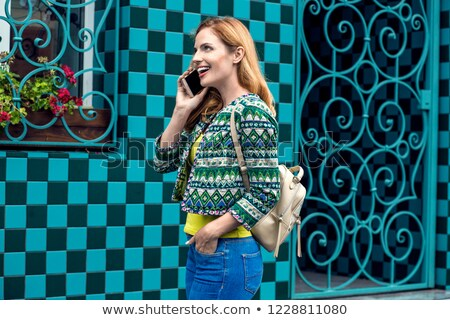phone: (176, 59, 208, 105)
talk: (172, 38, 232, 110)
